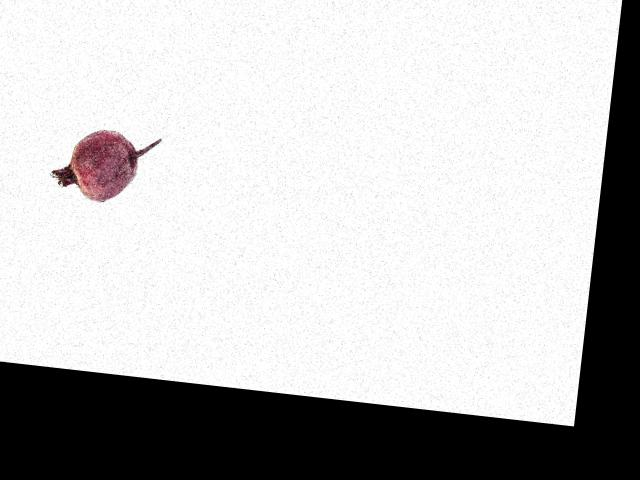beet: (47, 123, 161, 207)
